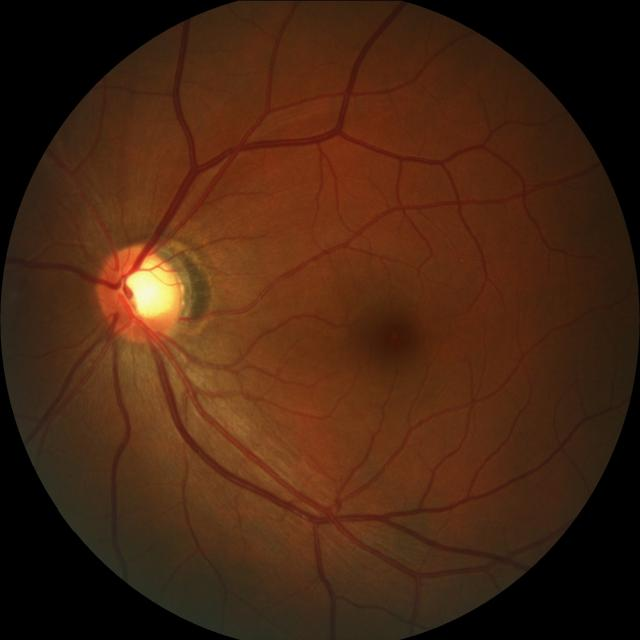OC: (122, 257, 183, 319)
OD: (99, 244, 184, 341)
